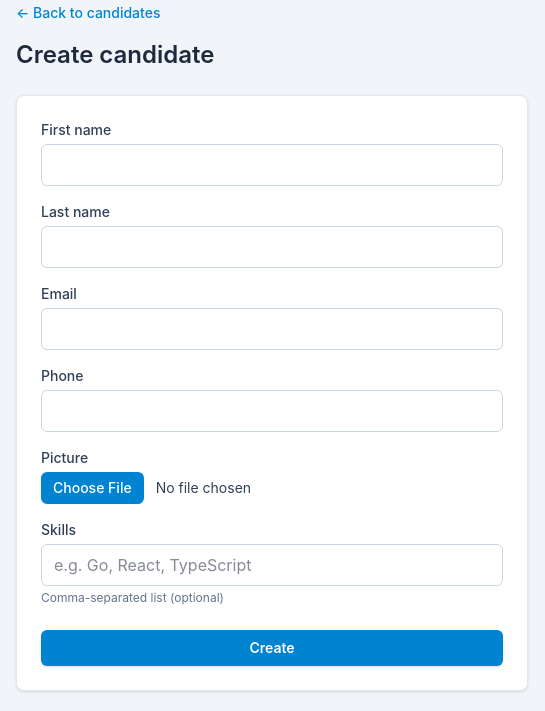
CreateCandidate › shows Zod validation when required fields are empty
Click the button "Create": (272, 648) [41,630,503,666]
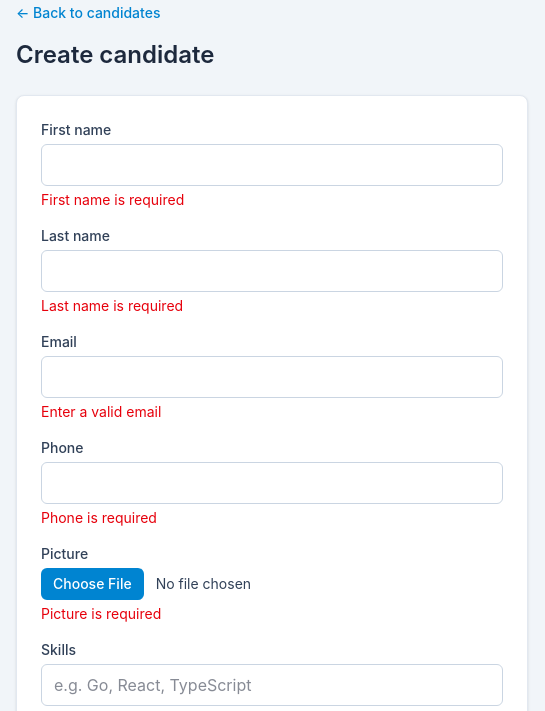
Expected: the text "First name is required" is shown, [41,191,184,208]
Expected: the text "Last name is required" is shown, [41,297,183,314]
Expected: the text "Enter a valid email" is shown, [41,403,161,420]
